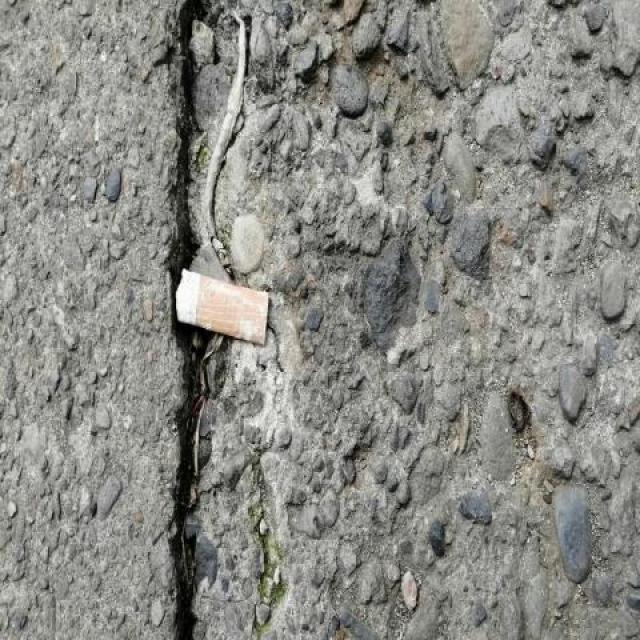non-organic waste: (173, 262, 274, 346)
